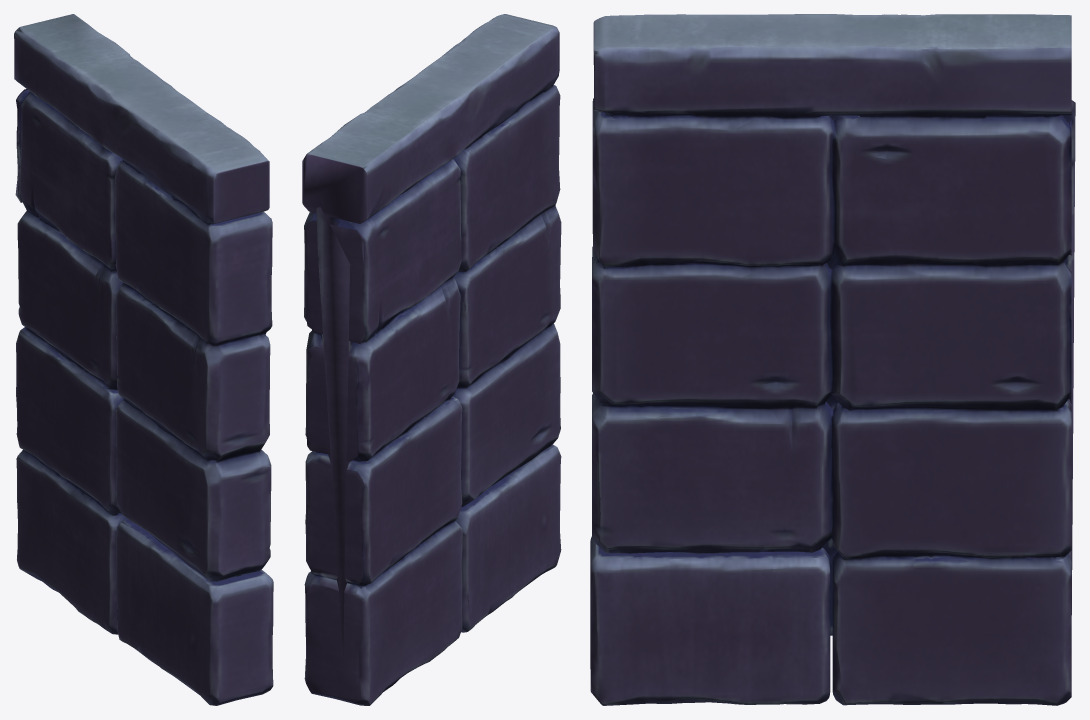
File: wall1.glb
3 renders of one model, left to right at view 1: azimuth 30°, elevation 25°; view 2: azimuth 150°, elevation 25°; view 3: azimuth 270°, elevation 25°, orthographic. The views are drawn at different scales.
Visible parts, largest first — view 1: Wall_01; view 2: Wall_01; view 3: Wall_01.
Part boxes in pixels (box(x1,y1,x2,y2)): Wall_01: box(14, 14, 273, 705); Wall_01: box(302, 14, 561, 705); Wall_01: box(590, 14, 1075, 705).
Size of the model in its own units: 0.0829 by 0.6376 by 0.4258.
1 material, 1 textured.
